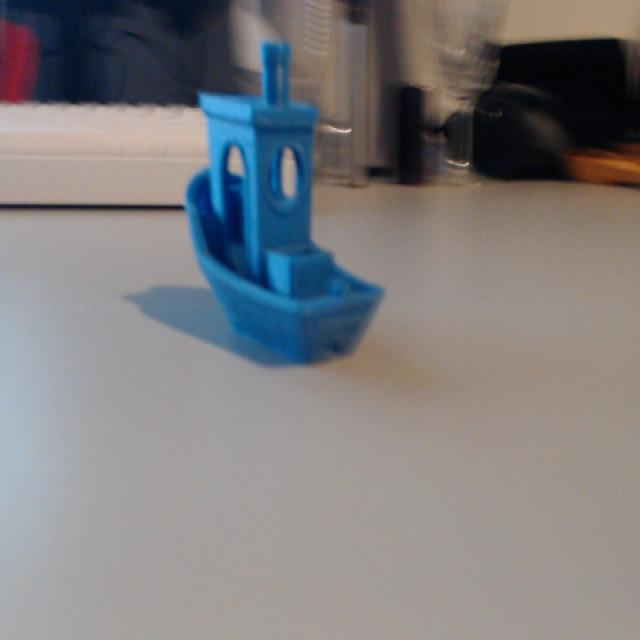benchy: (181, 36, 387, 367)
